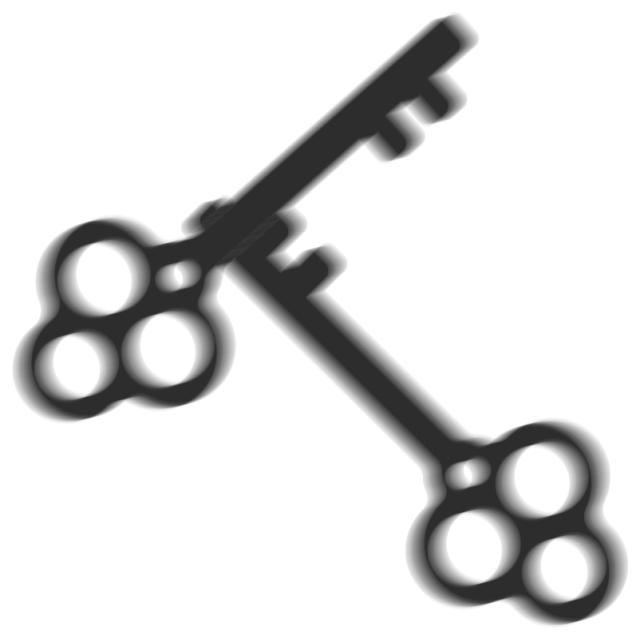key: (6, 5, 559, 439), (158, 157, 630, 631)
